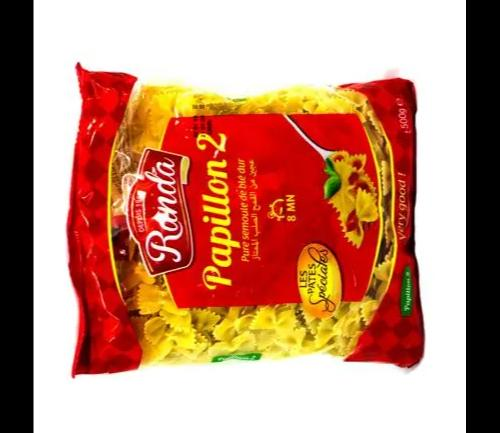Papillon: (72, 68, 418, 378)
